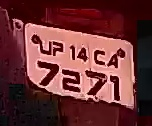1: (109, 73, 122, 102), (70, 42, 77, 63)
2: (62, 66, 82, 94)
4: (76, 45, 87, 63)
7: (36, 59, 60, 88), (84, 69, 108, 98)
A: (107, 50, 118, 71)
C: (93, 48, 105, 67)
P: (52, 39, 65, 59)
U: (40, 36, 52, 58)
